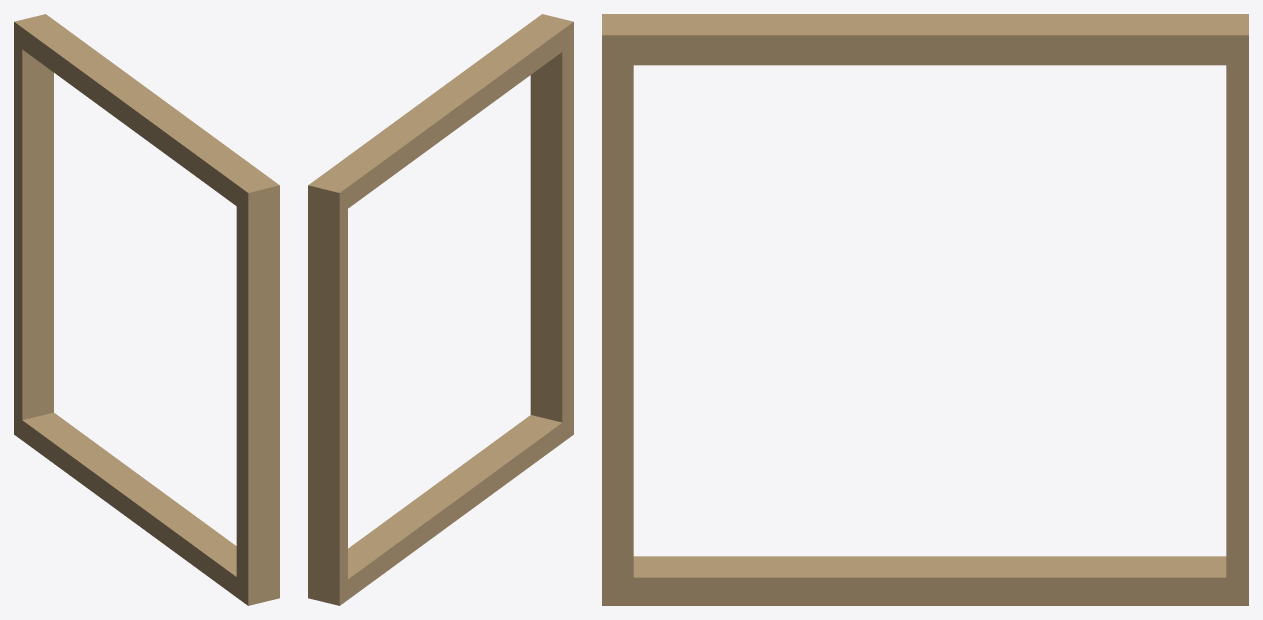
File: BigDoorFrame.fbx
3 renders of one model, left to right at view 1: azimuth 30°, elevation 25°; view 2: azimuth 150°, elevation 25°; view 3: azimuth 270°, elevation 25°, orthographic. The views are drawn at different scales.
Parts seen in each view (by area): view 1: Cube.008; view 2: Cube.008; view 3: Cube.008.
Part boxes in pixels (<box>): Cube.008: <box>14,14,279,605</box>; Cube.008: <box>308,14,573,605</box>; Cube.008: <box>602,14,1248,605</box>.
Size of the model in its own units: 3.81 by 47.6 by 48.91.
